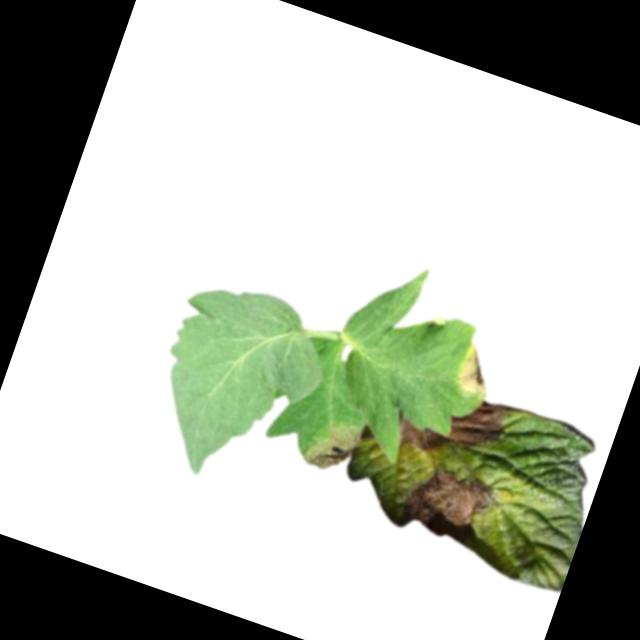Late_blight: (397, 460, 504, 553), (297, 408, 365, 483), (445, 393, 516, 459), (451, 341, 501, 399), (392, 415, 448, 457)
healthy: (134, 268, 344, 504)
